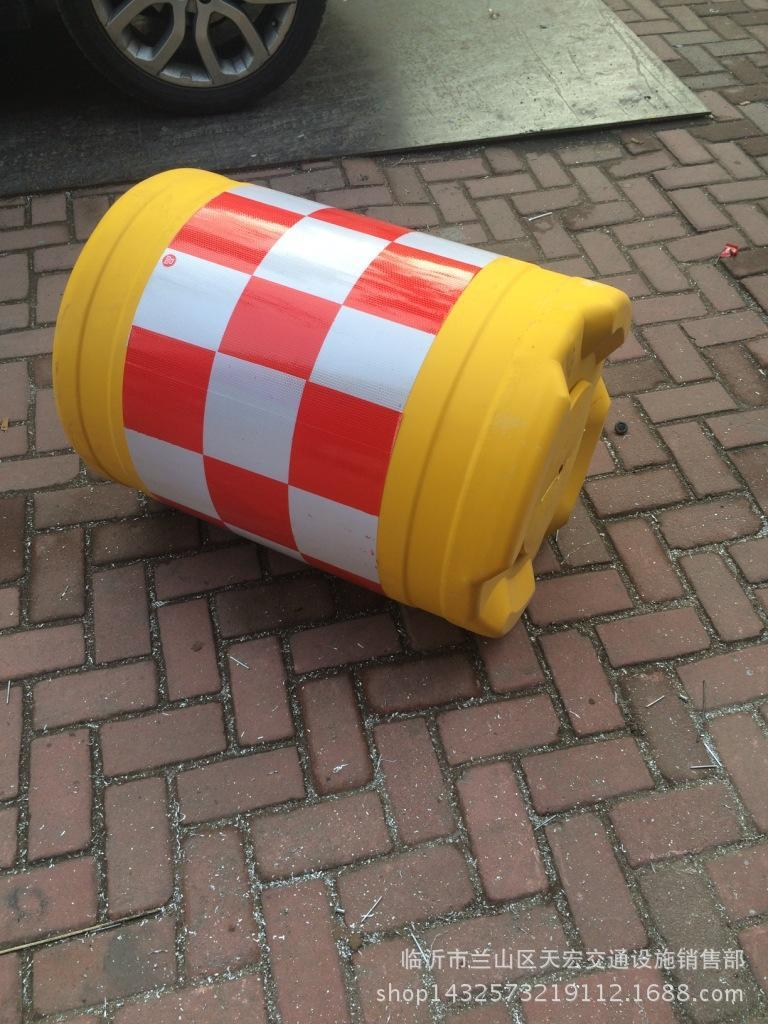sign: (41, 146, 656, 642)
